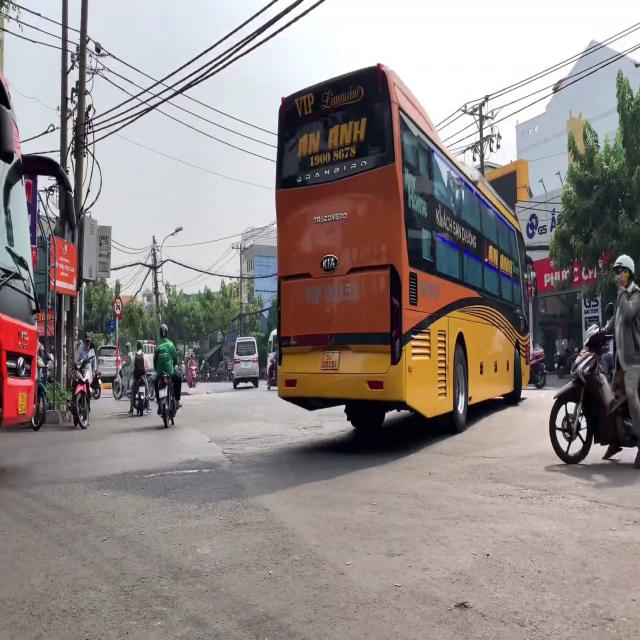bien_vang: (322, 350, 341, 370)
